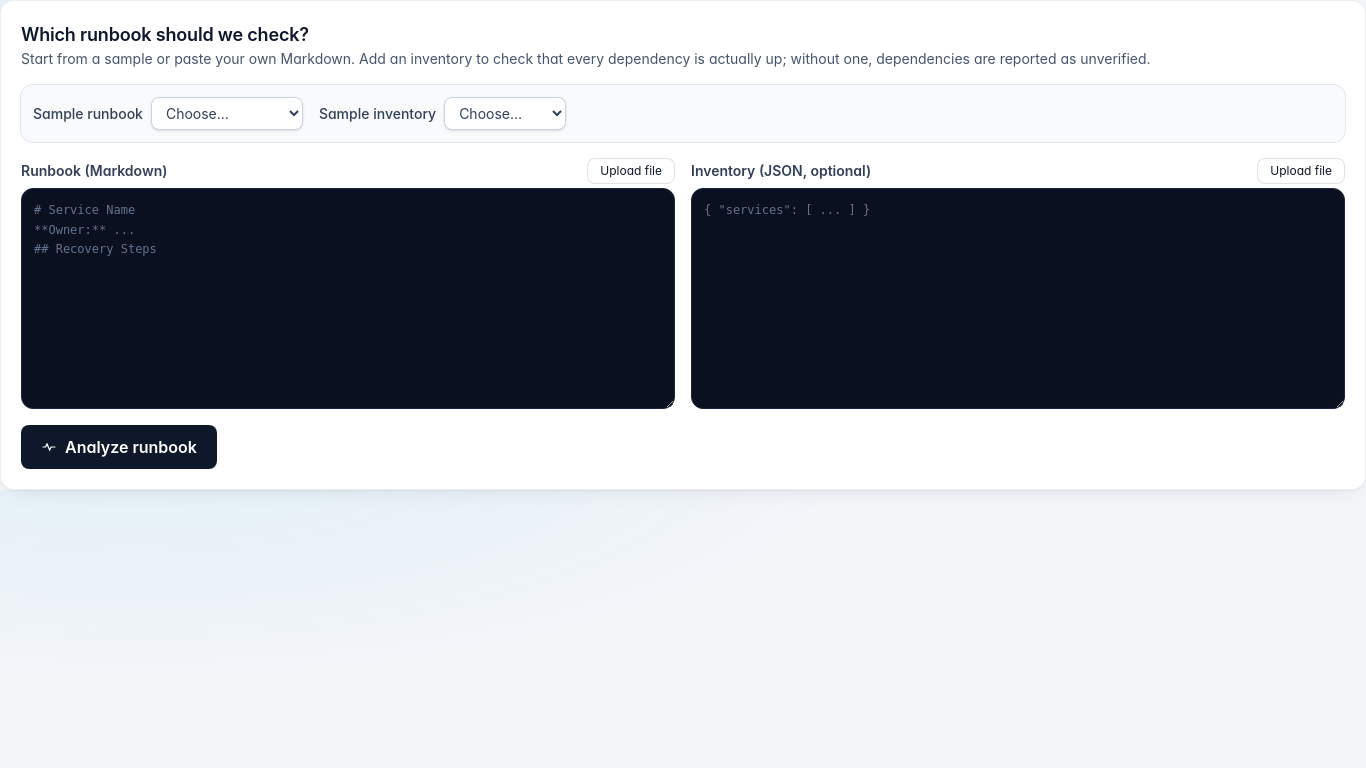
it: InputPanel › reports a sample that fails to load
Select "auth-service.md" in the dropdown labelled "Sample runbook" at (227, 114), box x1=151 y1=97 x2=303 y2=130
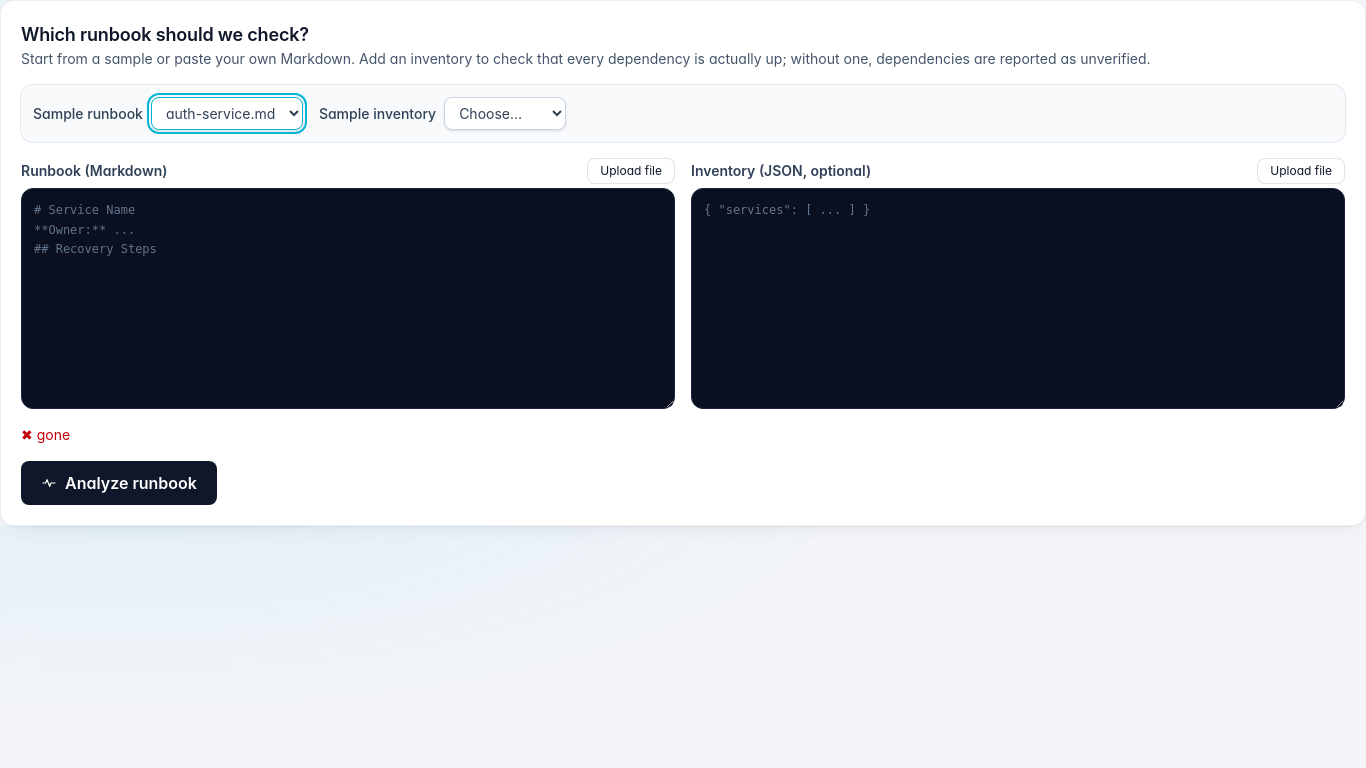
Now the message shows "gone", box x1=37 y1=426 x2=70 y2=443
